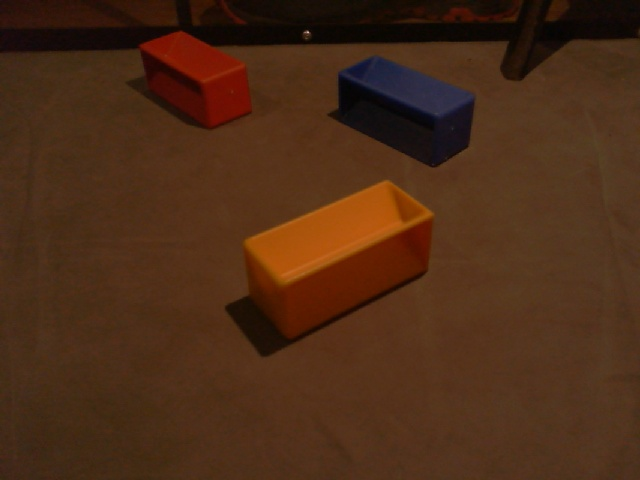BlueSample: (337, 53, 476, 169)
RedSample: (139, 31, 252, 132)
YellowSample: (241, 177, 437, 337)
